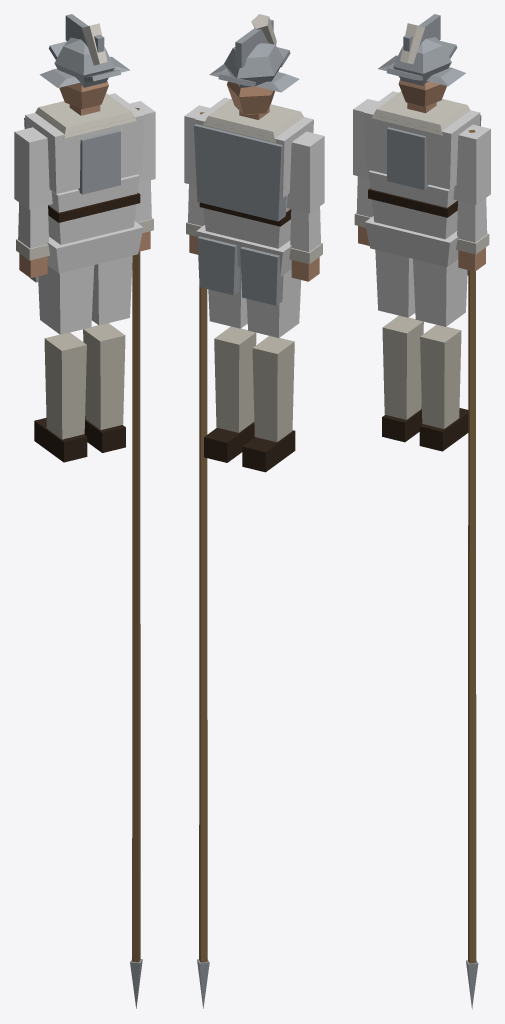
Rendered from soldier_em_pike_lod1.glb.
The picture shows the model from 3 angles, left to right: view 1: azimuth 30°, elevation 25°; view 2: azimuth 150°, elevation 25°; view 3: azimuth 330°, elevation 25°; orthographic projection. The views are drawn at different scales.
Parts seen in each view (by area): view 1: em_pike_lod1_static; view 2: em_pike_lod1_static; view 3: em_pike_lod1_static.
Part boxes in pixels (left/top/right/bottom): em_pike_lod1_static: left=14, top=14, right=155, bottom=1008; em_pike_lod1_static: left=184, top=14, right=324, bottom=1008; em_pike_lod1_static: left=353, top=14, right=490, bottom=1009.
Size of the model in its own units: 0.59 by 4.49 by 0.361.
